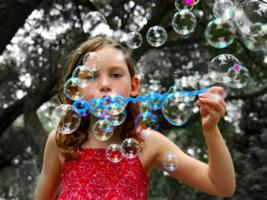person: (34, 34, 238, 200)
